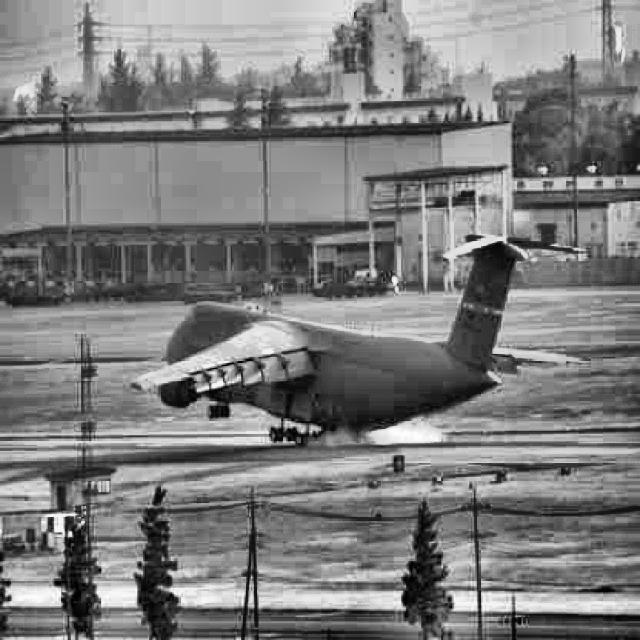C5: (129, 234, 588, 448)
